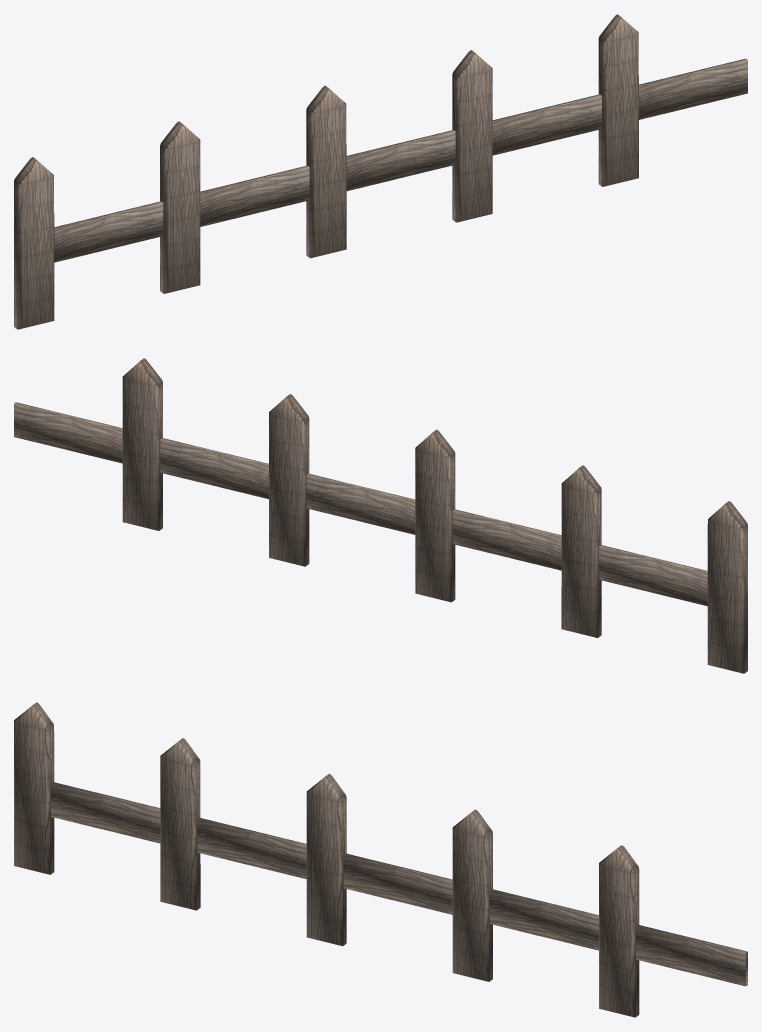
Rendered from fence.obj.
3 views of the same model, one above another, from view 1: azimuth 30°, elevation 25°; view 2: azimuth 150°, elevation 25°; view 3: azimuth 330°, elevation 25° (orthographic).
Parts seen in each view (by area): view 1: fence; view 2: fence; view 3: fence.
Part boxes in pixels (x1,y1,x2,y2): fence: (14,14,747,329); fence: (14,358,747,673); fence: (14,702,747,1017).
Bounding box in the file's own units: 6.04 × 1.31 × 0.1207.
